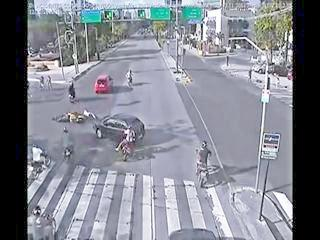Car: (97, 114, 143, 141), (94, 74, 113, 94)
Major Accident: (53, 107, 145, 141)
Motor: (28, 137, 70, 187), (30, 206, 57, 240), (195, 142, 211, 184), (56, 109, 95, 125), (119, 127, 136, 162), (62, 128, 74, 158), (68, 82, 75, 102), (126, 70, 133, 86), (46, 75, 53, 90), (40, 76, 45, 89)
